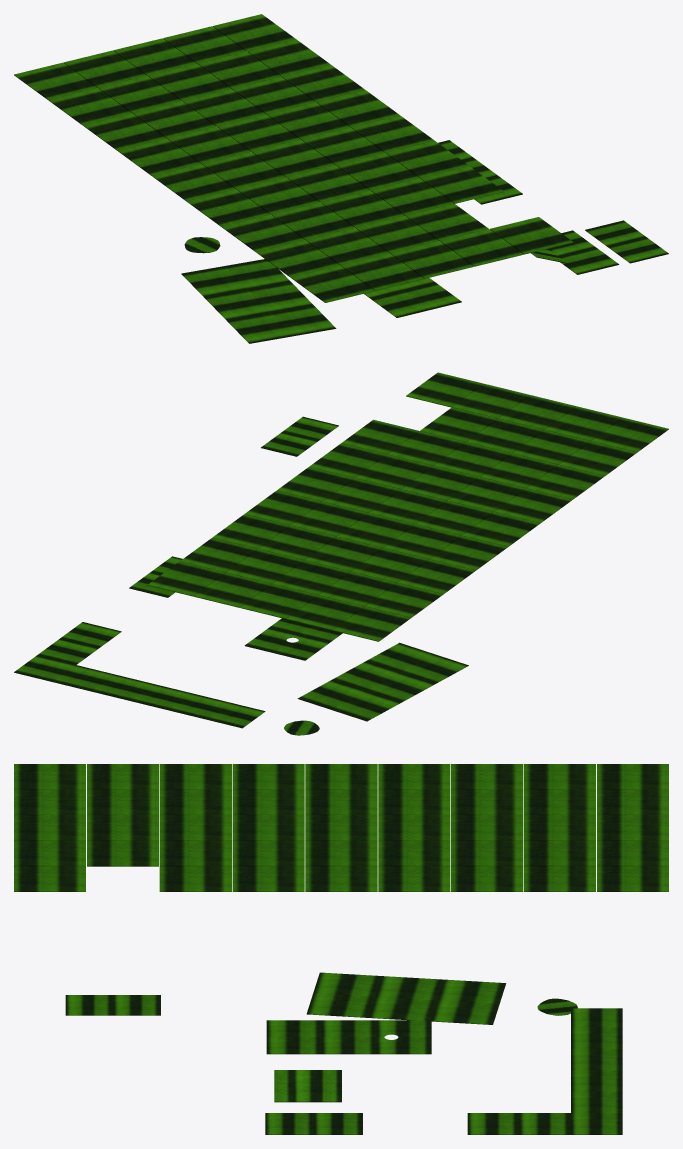
The model's file is PlayableFloor.fbx.
3 views of the same model, one above another, from view 1: azimuth 30°, elevation 25°; view 2: azimuth 150°, elevation 25°; view 3: azimuth 270°, elevation 25° (orthographic). The views are drawn at different scales.
Parts seen in each view (by area): view 1: Sol_Herbe.006; view 2: Sol_Herbe.006; view 3: Sol_Herbe.006.
Boxes of the visible parts, x1=… form: Sol_Herbe.006: x1=14, y1=14, x2=668, y2=343; Sol_Herbe.006: x1=14, y1=372, x2=668, y2=735; Sol_Herbe.006: x1=14, y1=764, x2=668, y2=1134.
Bounding box in the file's own units: 468 × 179 × 610.
